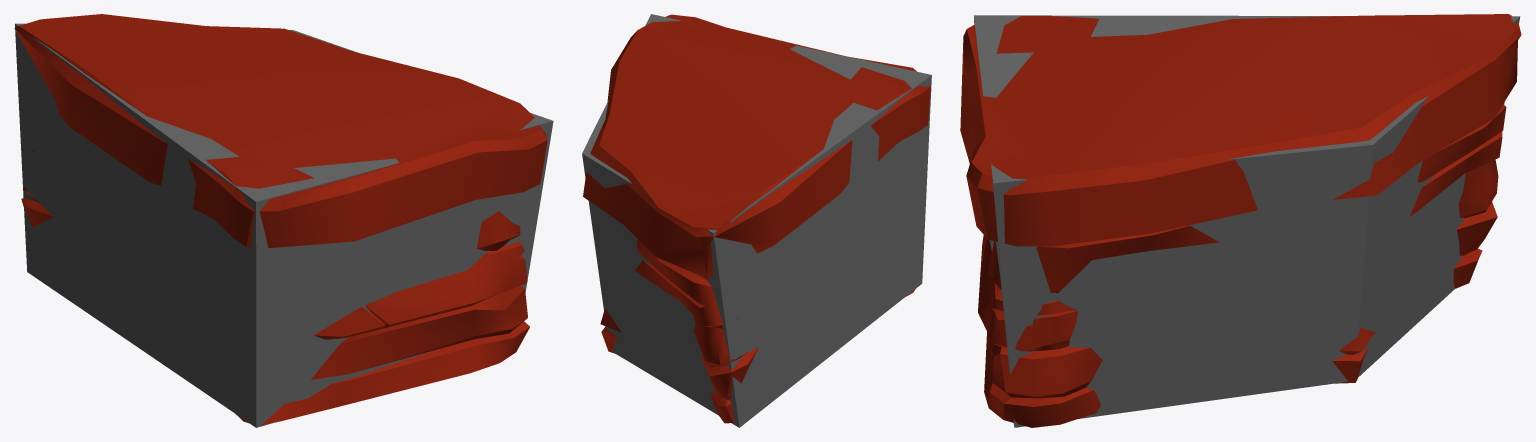
The model's file is SM_Directional_Rock.fbx.
3 views of the same model, side by side, from view 1: azimuth 30°, elevation 25°; view 2: azimuth 150°, elevation 25°; view 3: azimuth 270°, elevation 25° (orthographic). The views are drawn at different scales.
Parts seen in each view (by area): view 1: SM_Directional_Rock, SM_Directional_Rock_col; view 2: SM_Directional_Rock, SM_Directional_Rock_col; view 3: SM_Directional_Rock, SM_Directional_Rock_col.
Boxes of the visible parts, left/top/right/bottom form: SM_Directional_Rock: left=14, top=14, right=547, bottom=425; SM_Directional_Rock_col: left=15, top=23, right=553, bottom=427; SM_Directional_Rock: left=583, top=14, right=930, bottom=423; SM_Directional_Rock_col: left=582, top=14, right=931, bottom=427; SM_Directional_Rock: left=960, top=14, right=1521, bottom=427; SM_Directional_Rock_col: left=974, top=15, right=1520, bottom=427.
Bounding box in the file's own units: 1173 × 833 × 1596.
